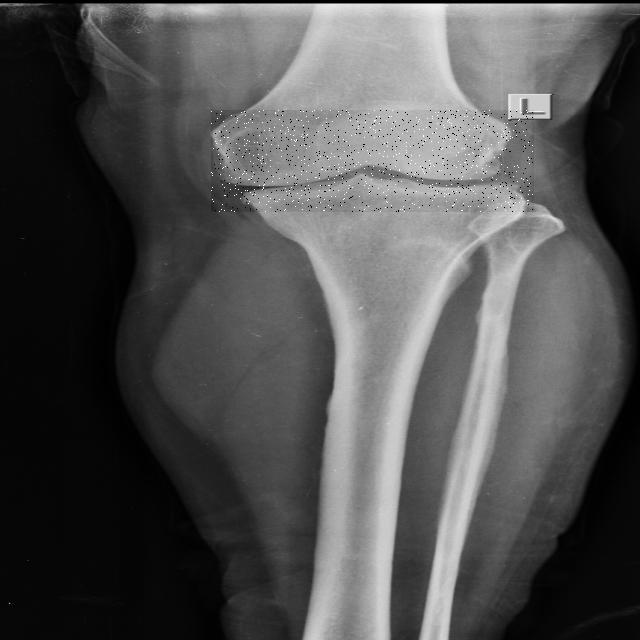normal: (211, 110, 534, 212)
